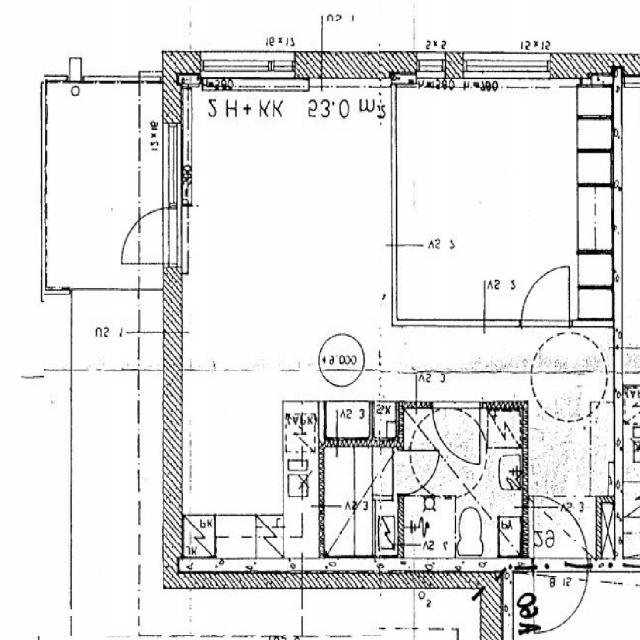door: (535, 494, 588, 572), (535, 557, 588, 634), (116, 208, 182, 264), (434, 402, 481, 464), (523, 265, 570, 327), (399, 450, 441, 494)
